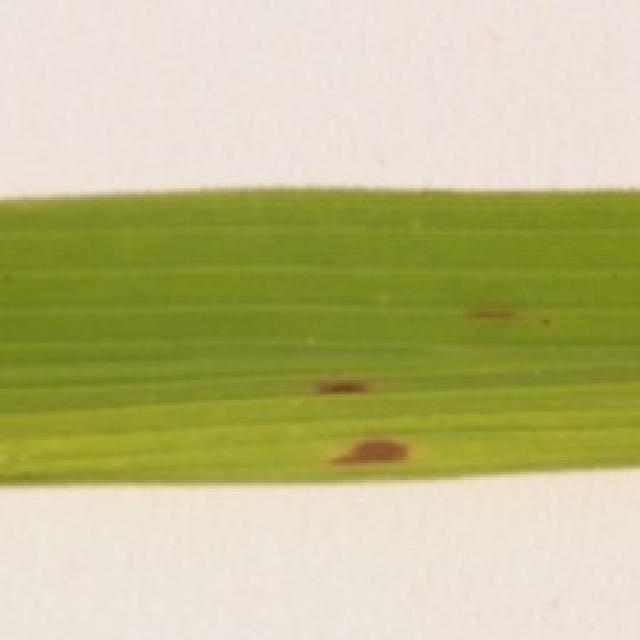Rice___Brown_Spot: (0, 190, 637, 483)
